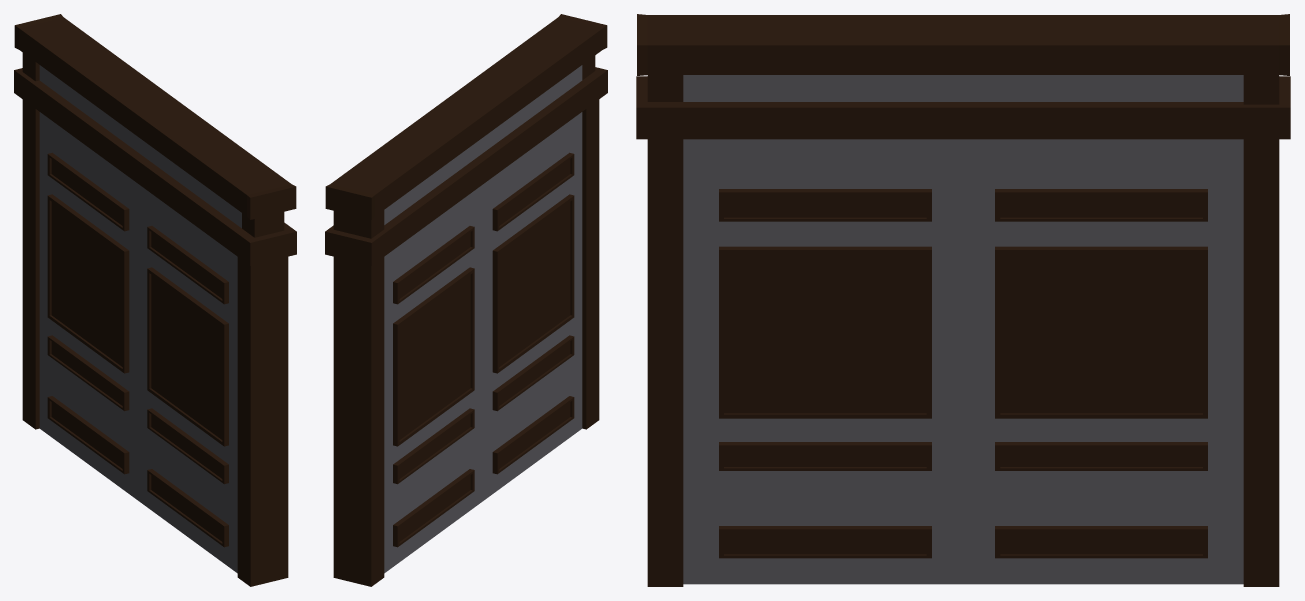
Rendered from door.glb.
3 renders of one model, left to right at view 1: azimuth 30°, elevation 25°; view 2: azimuth 150°, elevation 25°; view 3: azimuth 270°, elevation 25°, orthographic. The views are drawn at different scales.
Visible parts, largest first — view 1: blastDoor.001; view 2: blastDoor.001; view 3: blastDoor.001.
Boxes of the visible parts, x1,y1,x2,y2 form: blastDoor.001: (14, 14, 296, 586); blastDoor.001: (325, 14, 607, 586); blastDoor.001: (636, 14, 1290, 586).
Bounding box in the file's own units: 1.28 × 10.28 × 11.19.
